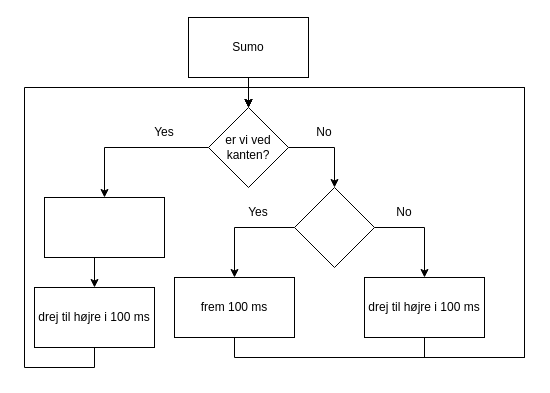
The diagram is 550 pixels wide and 393 high, and some of its shapes have lost their labels. The shapes that lost their labels are listed below. From the top down, each one's centre as x and y in pixels, then its label:
At [104,227]: "Tilbage 100 ms".
At [334,227]: "afstand in range?".
